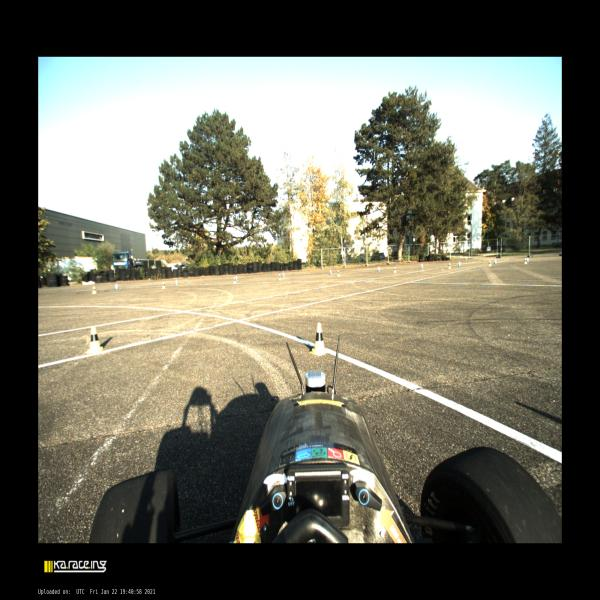blue_cone: (114, 283, 118, 289), (175, 279, 178, 285), (235, 275, 238, 281), (329, 269, 332, 275), (494, 258, 497, 264), (282, 272, 285, 277), (377, 266, 380, 271), (458, 261, 461, 266), (421, 263, 423, 269)
yellow_cone: (310, 322, 328, 355), (85, 326, 105, 353), (92, 285, 97, 294), (232, 276, 237, 284), (161, 282, 166, 288), (524, 258, 528, 264), (488, 260, 492, 266), (278, 273, 281, 281), (337, 270, 340, 276), (448, 263, 451, 269), (393, 267, 396, 272)
